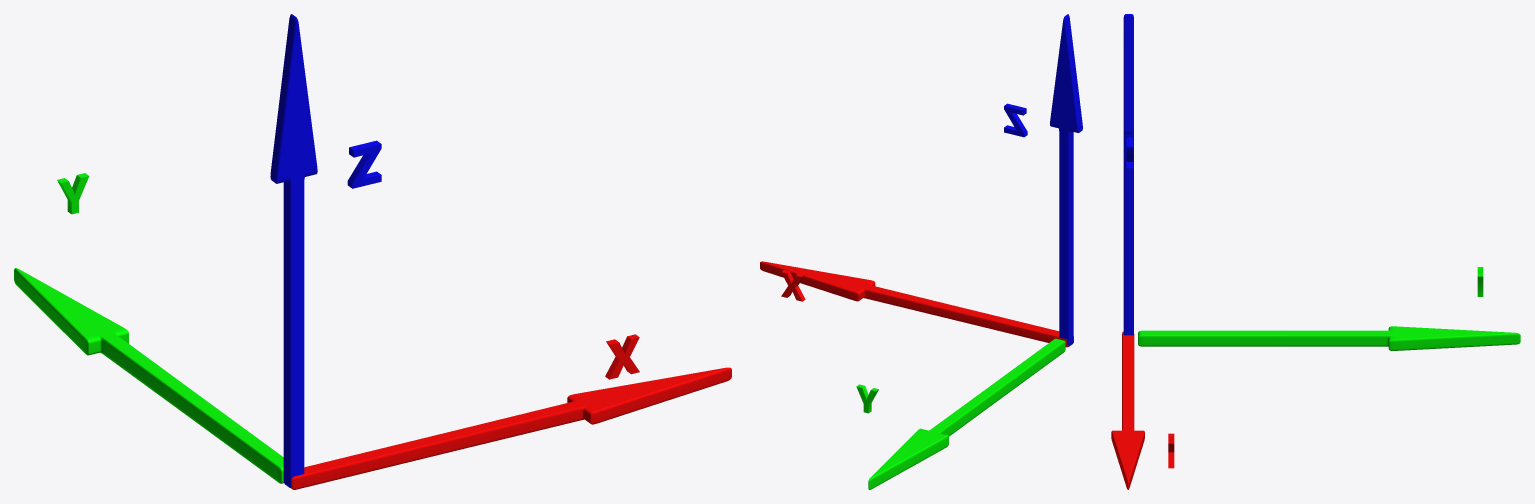
File: axes.glb
The picture shows the model from 3 angles, left to right: view 1: azimuth 30°, elevation 25°; view 2: azimuth 150°, elevation 25°; view 3: azimuth 270°, elevation 25°; orthographic projection. The views are drawn at different scales.
Parts seen in each view (by area): view 1: node_id50, node_id34, node_id42, mesh_id86, mesh_id67; view 2: node_id50, node_id34, node_id42, mesh_id86, mesh_id67; view 3: node_id42, node_id50, node_id34.
Part boxes in pixels (x1,y1,x2,y2): node_id50: (270, 14, 317, 487); node_id34: (290, 367, 731, 489); node_id42: (14, 268, 283, 483); mesh_id86: (347, 140, 381, 188); mesh_id67: (605, 334, 639, 379); node_id50: (1050, 14, 1082, 346); node_id34: (760, 261, 1073, 347); node_id42: (868, 338, 1065, 489); mesh_id86: (1004, 103, 1027, 137); mesh_id67: (781, 270, 805, 301); node_id42: (1138, 326, 1520, 350); node_id50: (1123, 14, 1133, 335); node_id34: (1111, 331, 1144, 489).
Size of the model in its own units: 5.76 by 5.69 by 6.39.
